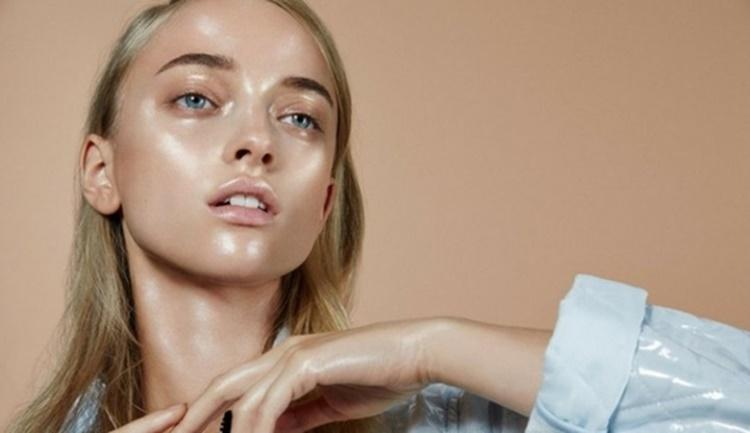Oily-Skin: (157, 133, 224, 176), (238, 66, 282, 100), (195, 12, 221, 38), (284, 37, 310, 62), (311, 144, 327, 179), (213, 231, 234, 255), (141, 98, 157, 125), (247, 239, 264, 263)
